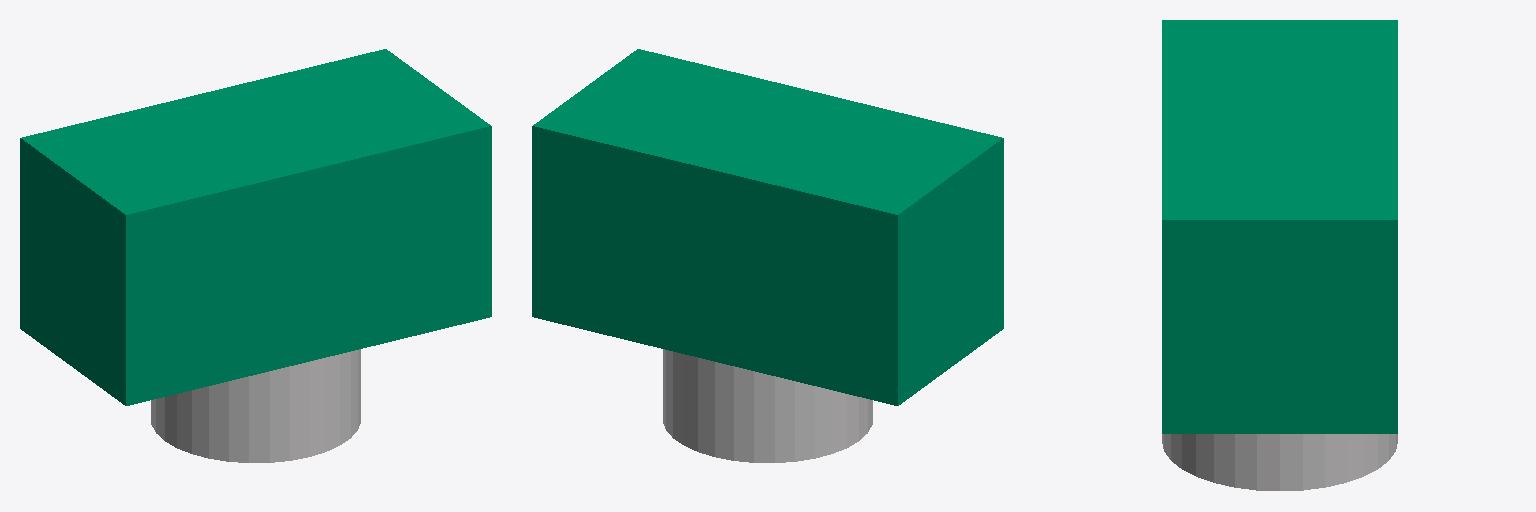
URDF robot description (camera_left):
<?xml version="1.0" encoding="utf-8"?>
<robot
  name="camera_left">

  <link name="world" />

  <joint name="base_joint" type="fixed">
    <parent link="world"/>
    <child link="body" />
    <origin xyz="0 0 0.010" rpy="0 0 0"/>
  </joint>

  <link name="body">
    <inertial>
      <origin
        xyz="0 0 0.05"
        rpy="0 0 0" />
      <mass
        value="1" />
      <inertia
        ixx="0.003958333"
        ixy="0"
        ixz="0"
        iyy="0.003958333"
        iyz="0"
        izz="0.02" />
    </inertial>
    
    <visual>
      <origin
          xyz="0 0 0.05"
          rpy="0 0 0" />
      <geometry>
        <cylinder length="0.1" radius="0.05"/>
      </geometry>
      <material
        name="">
        <color
          rgba="0.84706 0.83922 0.83922 1" />
      </material>
    </visual>

    <collision>
      <origin
        xyz="0 0 0.05"
        rpy="0 0 0" />
      <geometry>
        <cylinder length="0.1" radius="0.05"/>
      </geometry>
    </collision>
    </link>


    <joint name="camera_joint_0" type="fixed">
        <origin xyz="0 0 0.1" rpy="0 0 0"/>
        <parent link="body"/>
        <child link="camera_link_0"/>
    </joint>


    <link name="camera_link_0">
        <visual>
            <origin xyz="0 0 0" rpy="0 0 0"/>
            <geometry>
                <box size="0.2 0.1 0.1" />
            </geometry>
        </visual>
        <collision>
            <origin xyz="0.003 0.065 0.007" rpy="0 0 0"/>
            <geometry>
                <box size="0.012 0.132 0.020"/>
            </geometry>
        </collision>   

    </link>

    <!--gazebo reference="body">
        <mu1>1</mu1>
        <mu2>1</mu2>
        <fdir1>1 0 0</fdir1>
        <kp>1e+13</kp>
        <kd>1</kd>
        <maxVel>0</maxVel>
        <minDepth>0.0000001</minDepth>
        <gravity>1</gravity>
        <material>Gazebo/Grey</material>
    </gazebo-->

    <!--gazebo reference="camera_link_0">
        <sensor type="camera" name="camera_left_0">
        <update_rate>20</update_rate>
            <camera name="head">
                <horizontal_fov>1.5708</horizontal_fov>
                <image>
                <width>640</width>
                <height>320</height>
                <format>R8G8B8</format>
                </image>
            </camera>        
            <plugin name="camera_controller" filename="libgazebo_ros_camera.so">
                <alwaysOn>true</alwaysOn>
                <updateRate>0.0</updateRate>
                <cameraName>camera_left_0</cameraName>
                <imageTopicName>image_raw</imageTopicName>
                <cameraInfoTopicName>camera_info</cameraInfoTopicName>
                <frameName>camera_link_0</frameName>
                <hackBaseline>0.07</hackBaseline>
                <distortionK1>0.0</distortionK1>
                <distortionK2>0.0</distortionK2>
                <distortionK3>0.0</distortionK3>
                <distortionT1>0.0</distortionT1>
                <distortionT2>0.0</distortionT2>
            </plugin>
        </sensor>
    </gazebo-->

    <gazebo reference="camera_link_0">
      <sensor name="camera_left_top_ir" type="depth">
        <update_rate>1000</update_rate>
        <camera>
          <horizontal_fov>1.50098</horizontal_fov>
          <vertical_fov>1.50098</vertical_fov>
          <image>
            <width>640</width>
            <height>640</height>
            <format>R8G8B8</format>
          </image>
          <clip>
            <near>0.1</near>
            <far>100</far>
          </clip>
        </camera>
        <plugin name="camera_left_top_ir_controller" filename="libgazebo_ros_openni_kinect.so">
          <baseline>0.05</baseline>
          <alwaysOn>true</alwaysOn>
          <update_rate>1000</update_rate>
          <cameraName>camera_left_top_ir</cameraName>
          <imageTopicName>camera_left_top_ir/color/image_raw</imageTopicName>
          <cameraInfoTopicName>/camera_left_top_ir/color/camera_info</cameraInfoTopicName>
          <depthImageTopicName>/camera_left_top_ir/depth/image_raw</depthImageTopicName>
          <depthImageInfoTopicName>/camera_left_top_ir/depth/camera_info</depthImageInfoTopicName>
          <pointCloudTopicName>/camera_left_top_ir/depth/points</pointCloudTopicName>
          <frameName>camera_link_0</frameName>
          <pointCloudCutoff>0.1</pointCloudCutoff>
          <pointCloudCutoffMax>15.0</pointCloudCutoffMax>
          <distortionK1>0.00000001</distortionK1>
          <distortionK2>0.00000001</distortionK2>
          <distortionK3>0.00000001</distortionK3>
          <distortionT1>0.00000001</distortionT1>
          <distortionT2>0.00000001</distortionT2>
          <CxPrime>0</CxPrime>
          <Cx>320</Cx>
          <Cy>320</Cy>
          <focalLength>343.159073</focalLength>
          <hackBaseline>0</hackBaseline>
        </plugin>
      </sensor>
    </gazebo>

</robot>

--- Facts derived from the render (not from the file) ---
Views: 3 orthographic renders of the robot side by side, from view 1: azimuth 30°, elevation 25°; view 2: azimuth 150°, elevation 25°; view 3: azimuth 270°, elevation 25°.
Model camera_left with 3 links and 2 joints (2 fixed), rooted at world, posed all joints at 0.
Links seen in each view (by area): view 1: camera_link_0, body; view 2: camera_link_0, body; view 3: camera_link_0, body.
Boxes of the visible links, x1,y1,x2,y2 form: camera_link_0: [20, 49, 491, 405]; body: [151, 349, 360, 462]; camera_link_0: [532, 49, 1003, 405]; body: [663, 349, 872, 462]; camera_link_0: [1162, 20, 1397, 433]; body: [1162, 434, 1397, 490].
Bounding box of the posed robot: 0.2 × 0.1 × 0.15 m (x, y, z).
Geometry: primitives only (box / cylinder / sphere), no mesh files.
